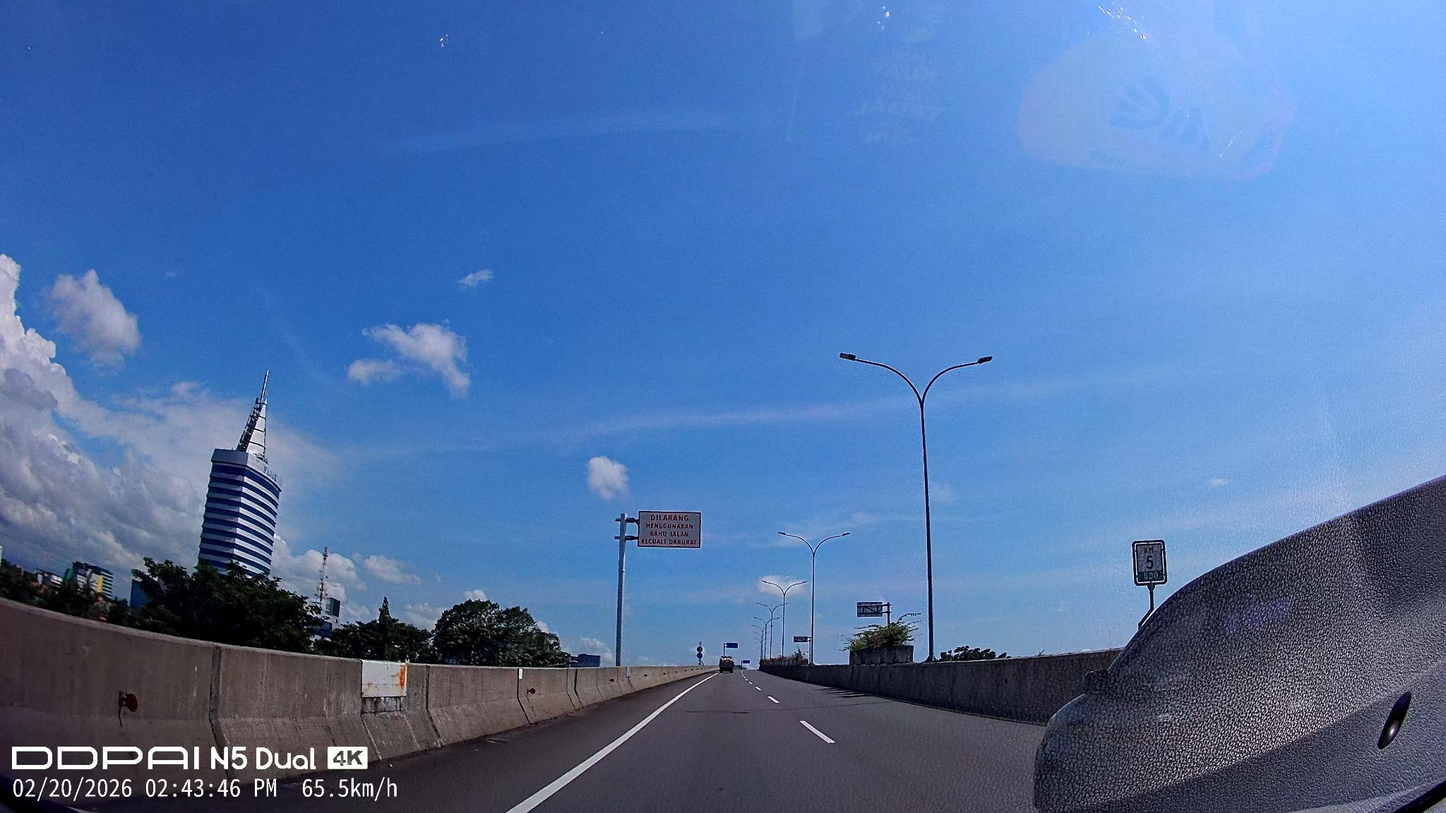rambu_teks: (637, 510, 702, 548)
